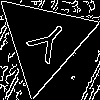Y: (19, 15, 72, 71)
